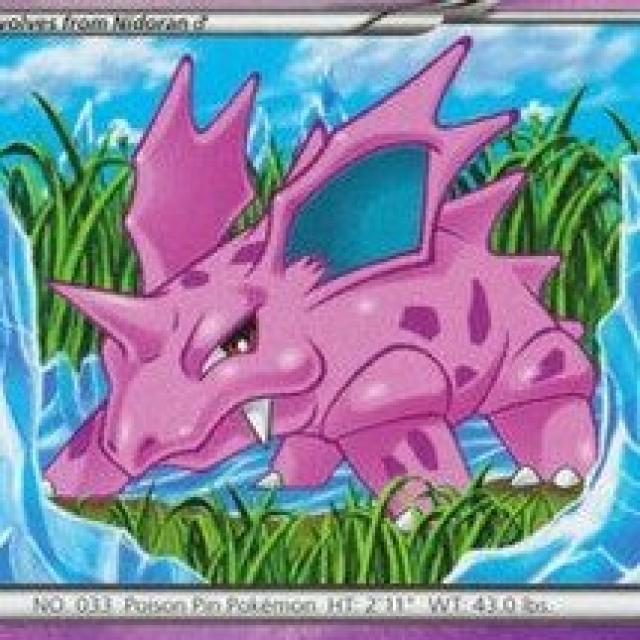Nidorino: (54, 109, 601, 512)
